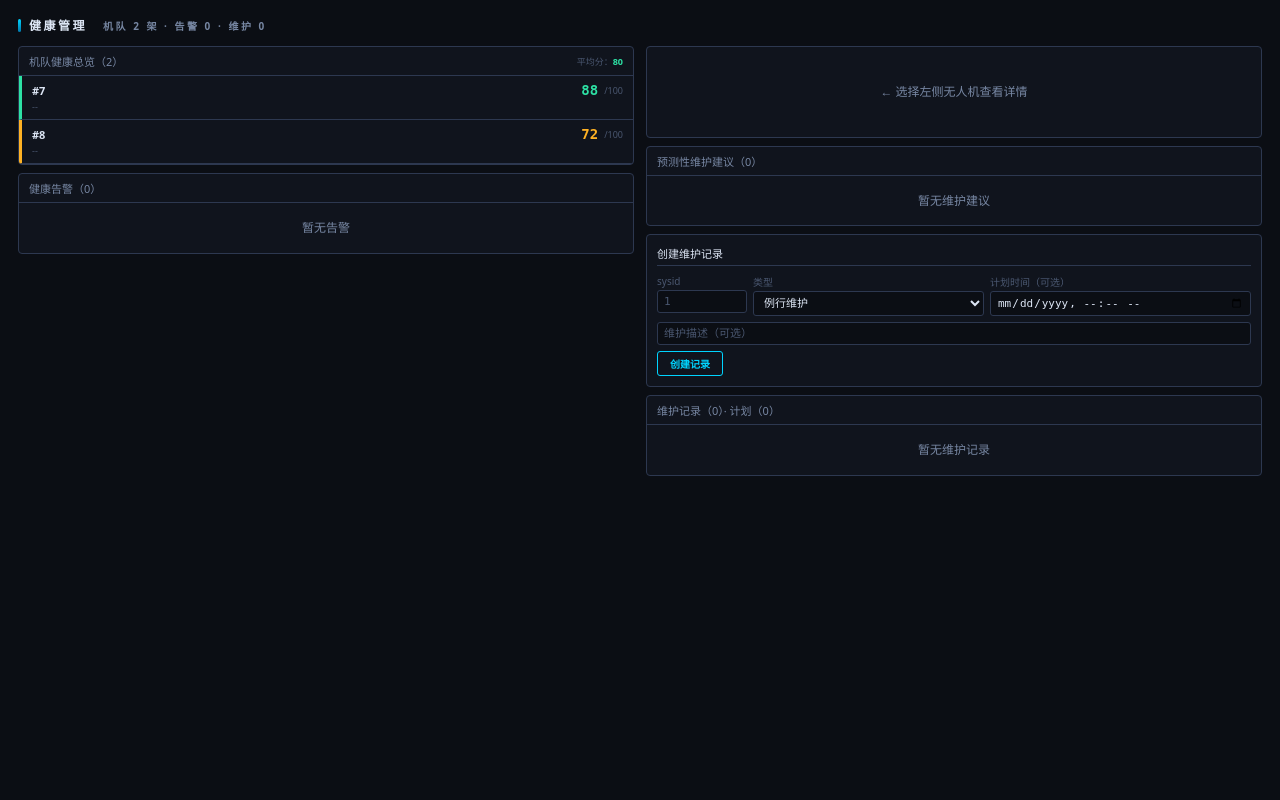
Test: HealthPanel 读的是后端 DTO 的真实字段名 › 历史评分有渲染点：droneHistory 取回了真实数据并显示（旧代码存了没人读）
Click the text "#7" at (39, 90), box [32, 82, 45, 98]
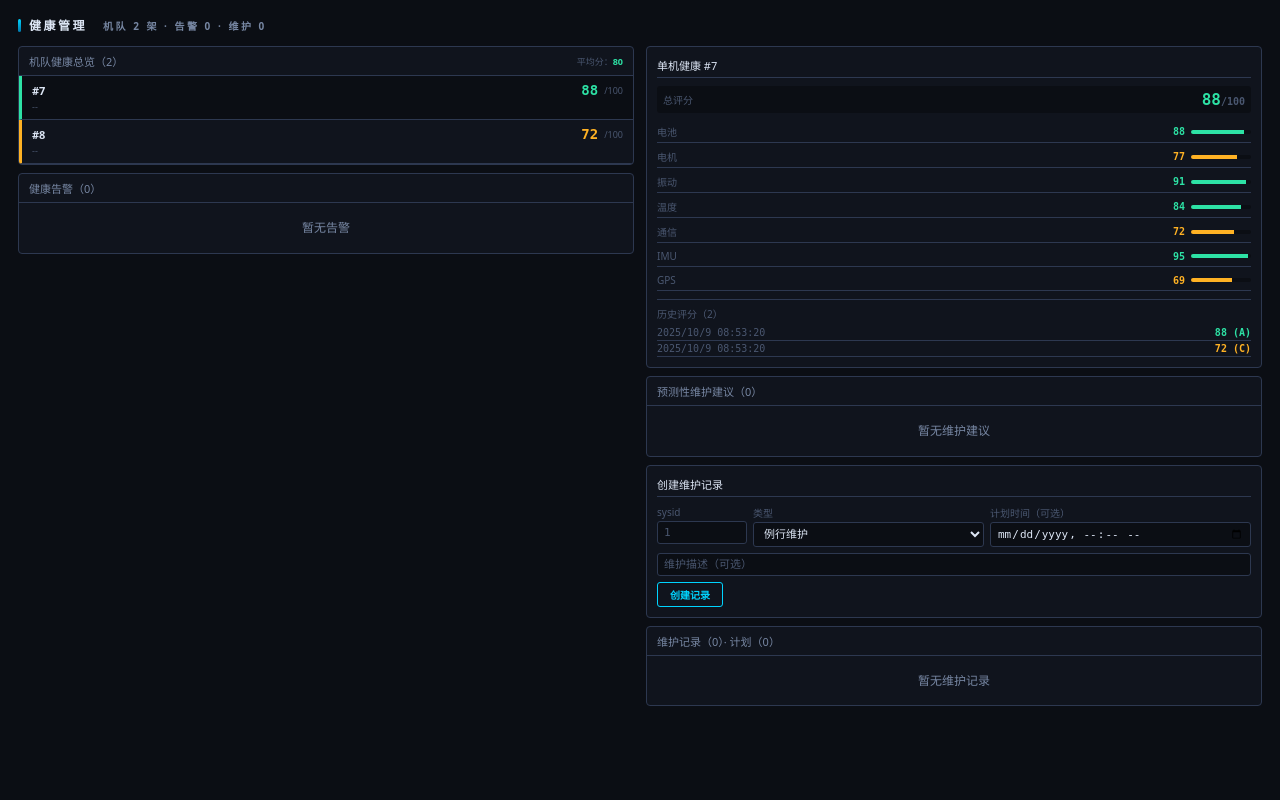
Expected: the text "历史评分（2）" is shown, [657, 307, 723, 321]
Expected: the text "88 (A)" is shown, [1215, 327, 1251, 338]
Expected: the text "72 (C)" is shown, [1215, 343, 1251, 354]
